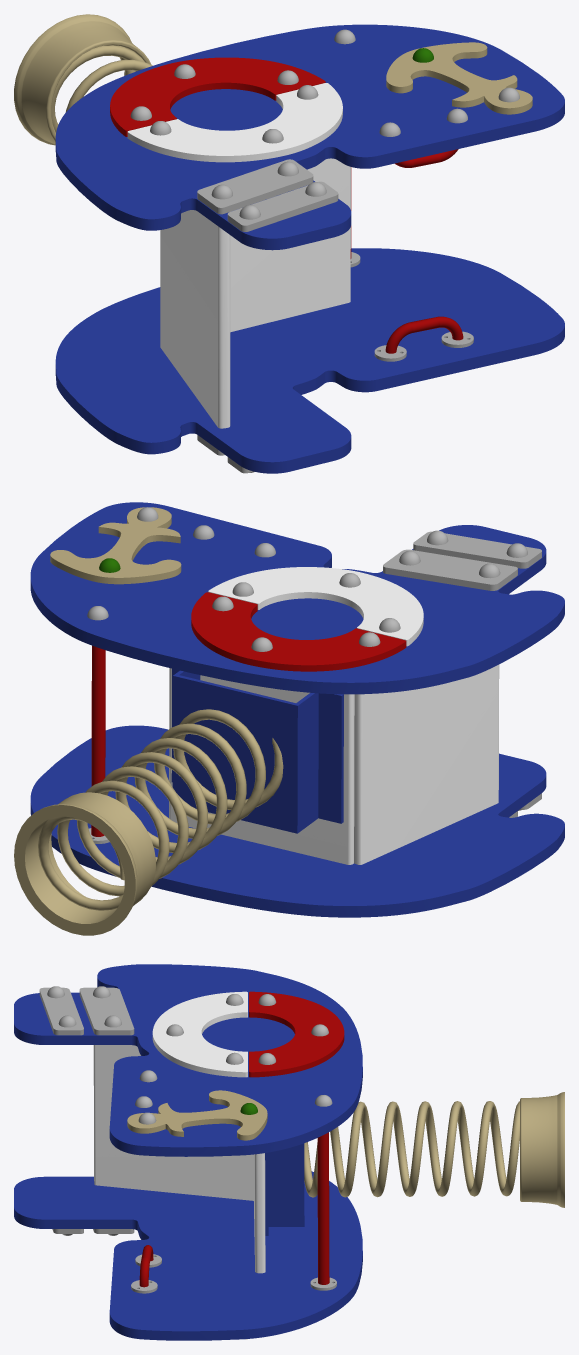
File: toyship.fbx
3 views of the same model, one above another, from view 1: azimuth 30°, elevation 25°; view 2: azimuth 150°, elevation 25°; view 3: azimuth 270°, elevation 25° (orthographic). The views are drawn at different scales.
Parts seen in each view (by area): view 1: Line09_inst_2, Line09, ChamferBo0, ChamferBox, Line12, Line24, Line03, Line13, Line10, Line11, Spring02, Line02_inst_2; view 2: Line09, Line09_inst_2, ChamferBo0, Line01, Spring02, Line03, Line24, Line12, ChamferBox, Line13, Line10, Line11 (+1 smaller); view 3: Line09_inst_2, Line09, Spring02, ChamferBo0, Line12, Line24, Line03, Line13, Line01, Cylinder21, Line10, ChamferBox (+1 smaller).
Boxes of the visible parts, <box> form: Line09_inst_2: <box>55,248,564,473</box>; Line09: <box>55,24,564,250</box>; ChamferBo0: <box>160,210,230,428</box>; ChamferBox: <box>230,158,350,332</box>; Line12: <box>127,83,342,162</box>; Line24: <box>110,57,325,136</box>; Line03: <box>14,14,151,145</box>; Line13: <box>386,42,532,114</box>; Line10: <box>197,159,313,214</box>; Line11: <box>227,181,338,231</box>; Spring02: <box>51,45,152,132</box>; Line02_inst_2: <box>385,316,463,353</box>; Line09: <box>30,502,564,694</box>; Line09_inst_2: <box>30,725,564,917</box>; ChamferBo0: <box>354,664,499,864</box>; Line01: <box>171,668,343,833</box>; Spring02: <box>38,709,283,910</box>; Line03: <box>14,792,155,935</box>; Line24: <box>191,592,406,671</box>; Line12: <box>208,567,423,646</box>; ChamferBox: <box>169,668,354,864</box>; Line13: <box>50,507,181,584</box>; Line10: <box>383,549,517,590</box>; Line11: <box>413,531,541,568</box>; Line09_inst_2: <box>14,1171,362,1340</box>; Line09: <box>14,964,362,1156</box>; Spring02: <box>304,1101,519,1197</box>; ChamferBo0: <box>93,1045,253,1200</box>; Line12: <box>152,991,247,1077</box>; Line24: <box>249,991,344,1077</box>; Line03: <box>520,1092,564,1207</box>; Line13: <box>127,1090,267,1140</box>; Line01: <box>265,1143,304,1235</box>; Cylinder21: <box>317,1132,329,1284</box>; Line10: <box>79,987,134,1035</box>; ChamferBox: <box>253,1153,265,1273</box>.
Size of the model in its own units: 450 by 251 by 573.
